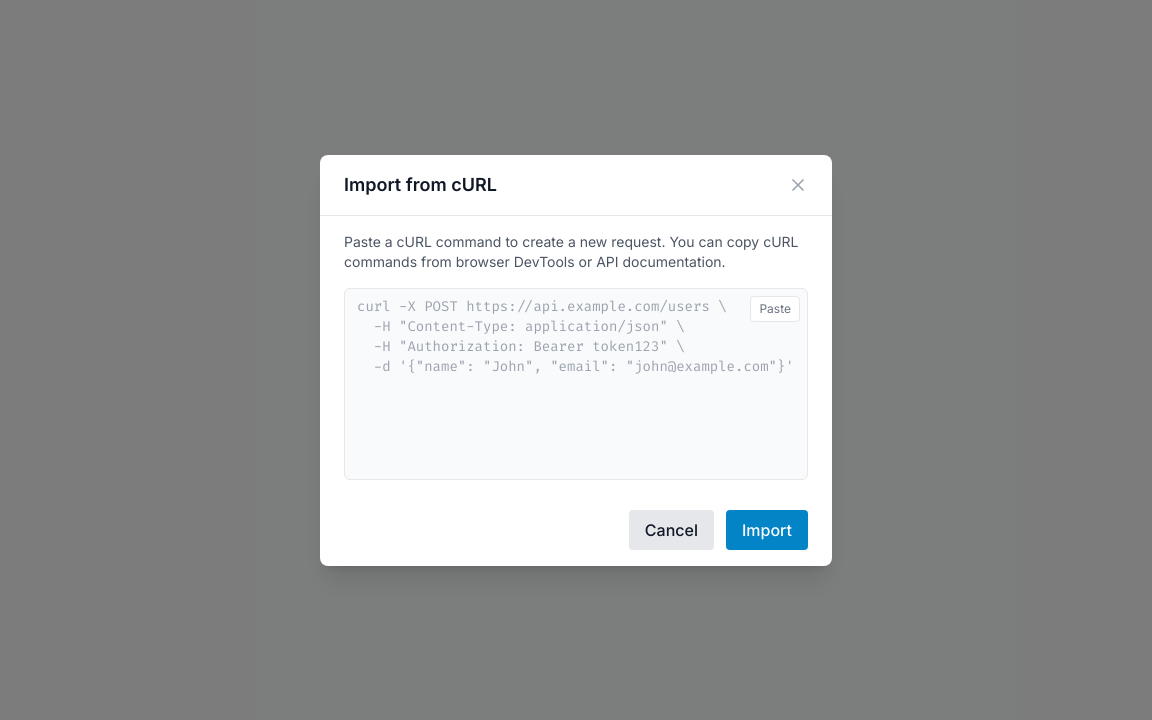
Test case: ImportCurlDialog › user interactions › should show error when importing empty command
The image size is (1152, 720).
Click the button "Import". click: (767, 530)
box: [726, 510, 808, 550]
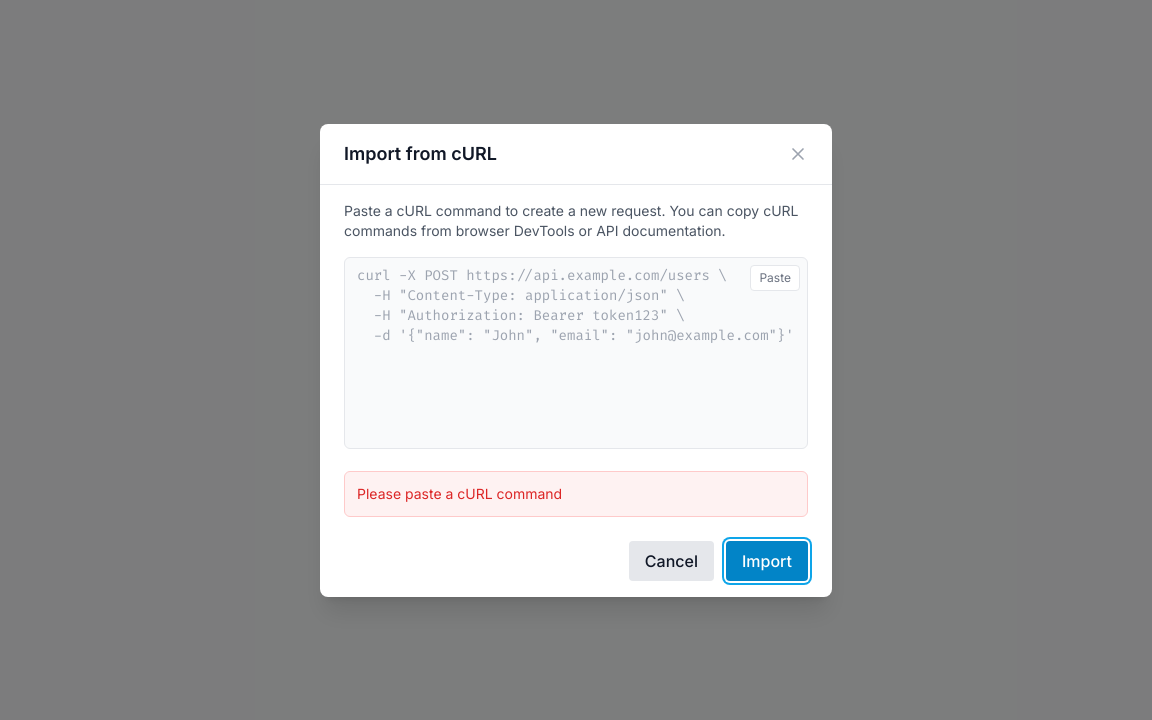
Expected: the text "Please paste a cURL command" is shown, [344, 470, 808, 516]
